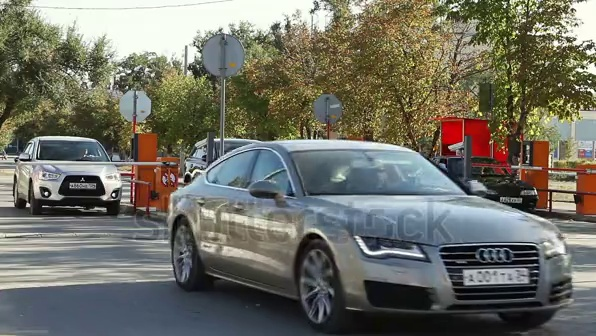licenseplate: (462, 264, 540, 284), (65, 176, 104, 189), (495, 192, 530, 206)
